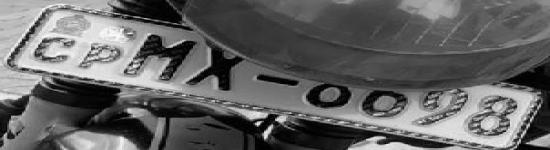-: (256, 75, 299, 86)
8: (468, 95, 517, 137)
9: (416, 84, 467, 126)
C: (35, 38, 76, 62)
M: (125, 34, 196, 81)
P: (78, 43, 121, 69)
X: (184, 44, 245, 91)
